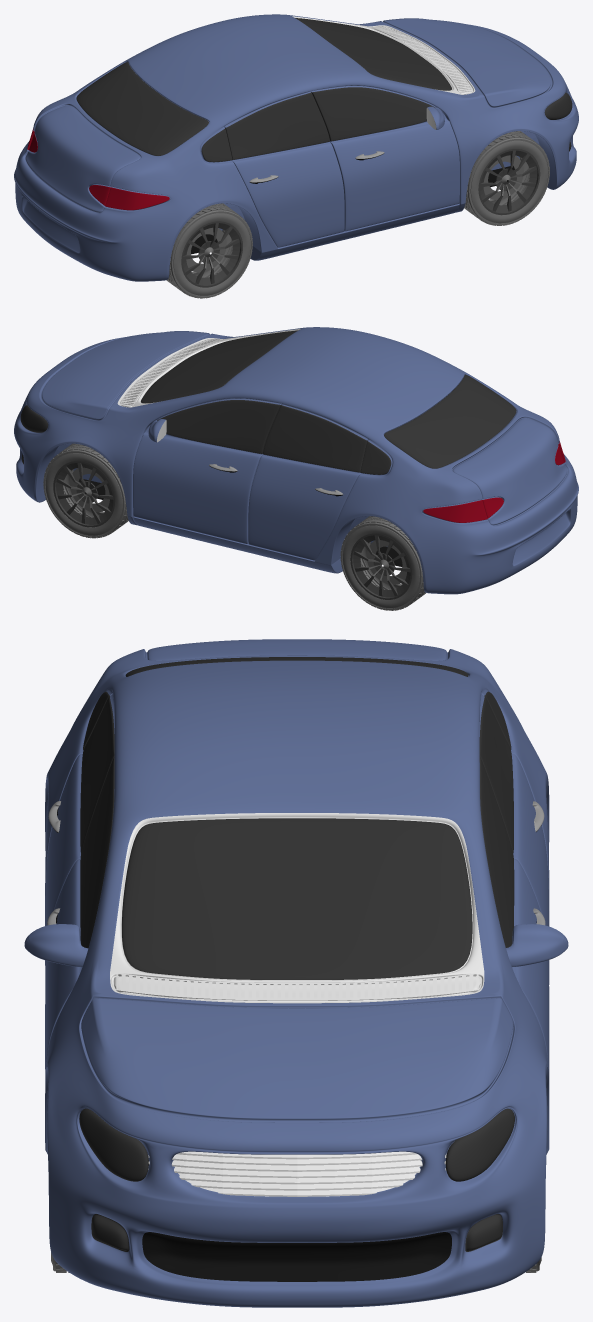
Rendered from car2.glb.
The picture shows the model from 3 angles, top to bottom: view 1: azimuth 30°, elevation 25°; view 2: azimuth 150°, elevation 25°; view 3: azimuth 270°, elevation 25°; orthographic projection. The views are drawn at different scales.
Visible parts, largest first — view 1: carr, roda.000, roda.001, grade3; view 2: carr, roda.003, roda.002, grade3; view 3: carr, grade2, grade3, Retrovisor.001.
Part boxes in pixels (left/top/right/bottom): carr: left=14, top=14, right=578, bottom=281; roda.000: left=464, top=131, right=549, bottom=225; roda.001: left=166, top=203, right=252, bottom=298; grade3: left=369, top=26, right=472, bottom=93; carr: left=14, top=327, right=578, bottom=594; roda.003: left=43, top=443, right=128, bottom=538; roda.002: left=340, top=516, right=425, bottom=610; grade3: left=120, top=338, right=222, bottom=406; carr: left=45, top=639, right=549, bottom=1307; grade2: left=148, top=1151, right=446, bottom=1196; grade3: left=116, top=973, right=478, bottom=1000; Retrovisor.001: left=24, top=924, right=568, bottom=967.
Size of the model in its own units: 4.91 by 1.64 by 2.28.
